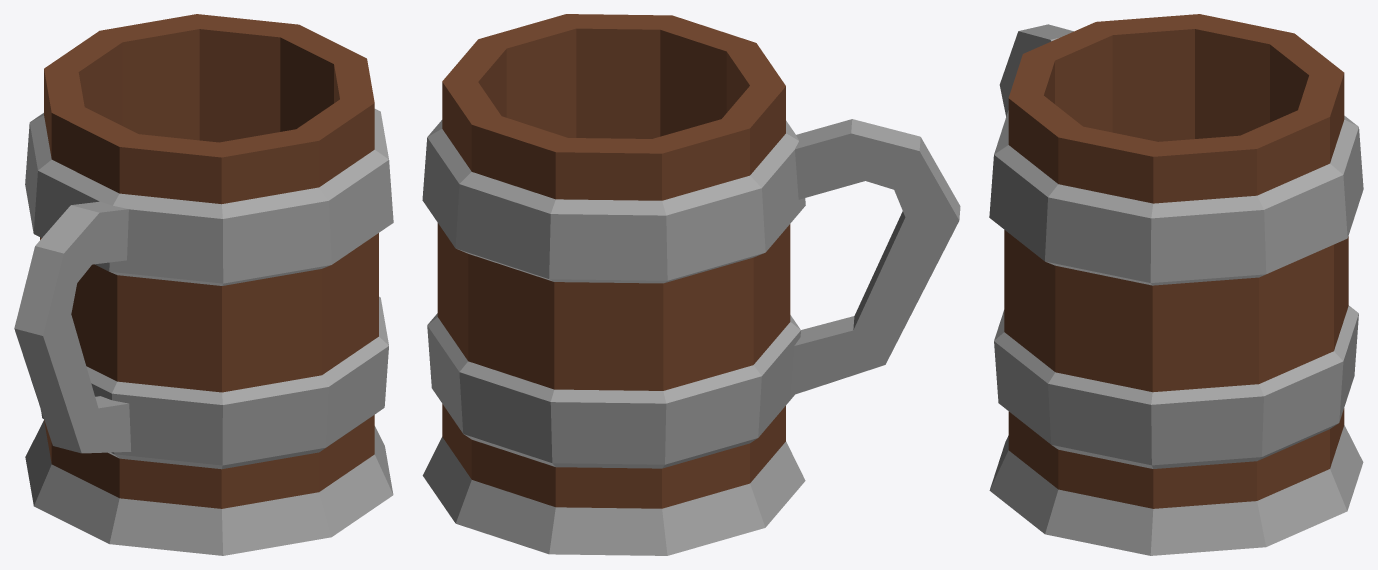
The model's file is mug_no_beer_2.fbx.
The picture shows the model from 3 angles, left to right: view 1: azimuth 30°, elevation 25°; view 2: azimuth 150°, elevation 25°; view 3: azimuth 270°, elevation 25°; orthographic projection.
Visible parts, largest first — view 1: beer_stein.001; view 2: beer_stein.001; view 3: beer_stein.001.
Part boxes in pixels (box(x1,y1,x2,y2)): beer_stein.001: box(14, 14, 393, 555); beer_stein.001: box(422, 14, 960, 555); beer_stein.001: box(989, 14, 1363, 555).
Bounding box in the file's own units: 22.34 × 19.32 × 16.76.
